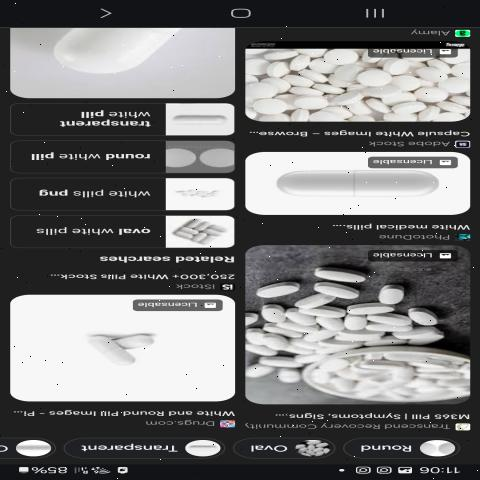Pill: (260, 162, 440, 204), (59, 333, 138, 371), (304, 261, 369, 285), (371, 280, 418, 311), (250, 276, 300, 300), (404, 306, 451, 329), (272, 368, 306, 389)
